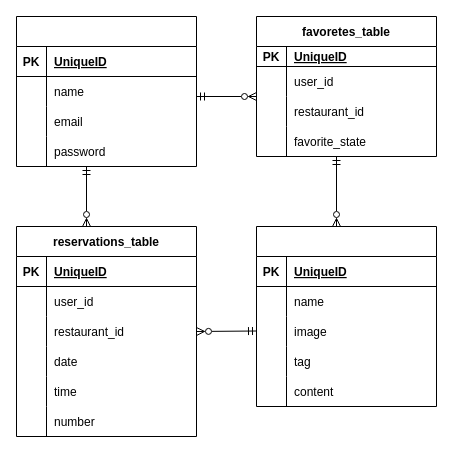
The diagram is 453 pixels wide and 453 high, and some of its shapes have lost their labels. Here are the shapes that lost their labels. From the top down, the box of each, then its label:
(16, 16, 196, 166): users_table
(256, 226, 436, 406): restaurants_table
